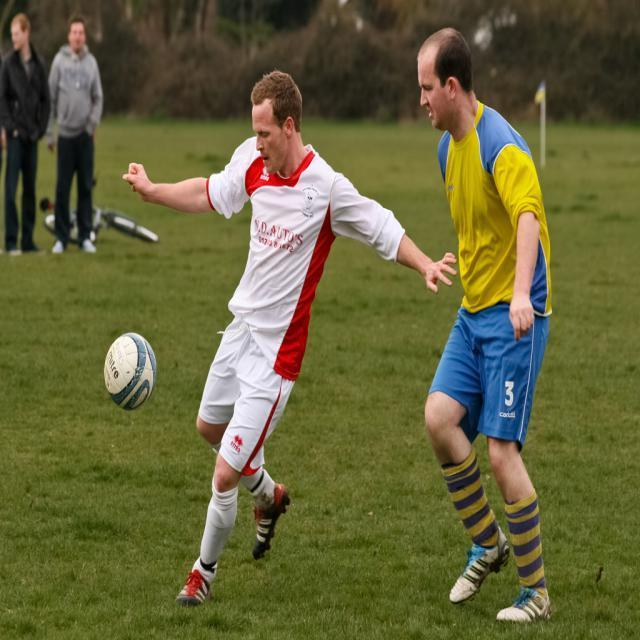football: (91, 328, 172, 409)
